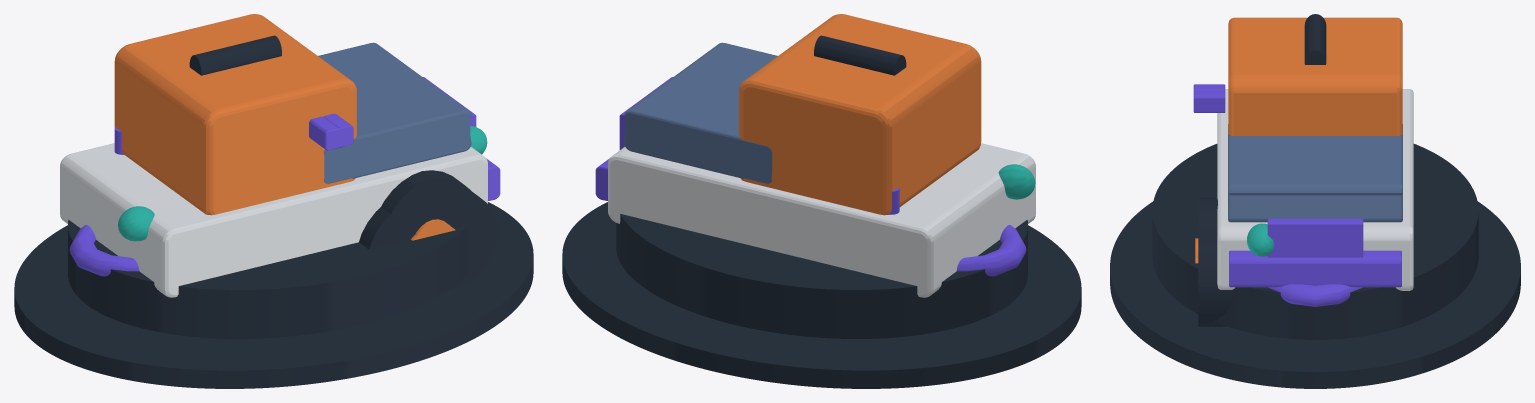
Rendered from 1087_古文观止_缫车.glb.
The picture shows the model from 3 angles, left to right: view 1: azimuth 30°, elevation 25°; view 2: azimuth 150°, elevation 25°; view 3: azimuth 270°, elevation 25°; orthographic projection. The views are drawn at different scales.
Parts seen in each view (by area): view 1: card_1087; view 2: card_1087; view 3: card_1087.
Part boxes in pixels (x1=…): card_1087: x1=14, y1=14, x2=533, y2=388; card_1087: x1=562, y1=14, x2=1081, y2=388; card_1087: x1=1110, y1=14, x2=1520, y2=388.
Bounding box in the file's own units: 1.92 × 1 × 1.57.
